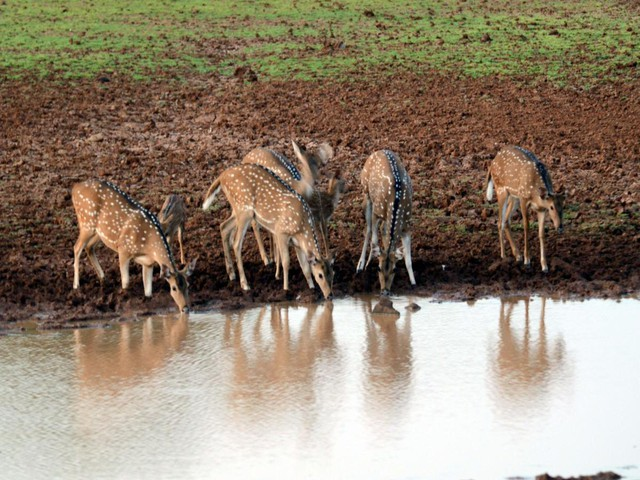deer: (66, 166, 199, 318), (204, 160, 336, 304), (481, 138, 573, 273), (360, 147, 419, 297)
